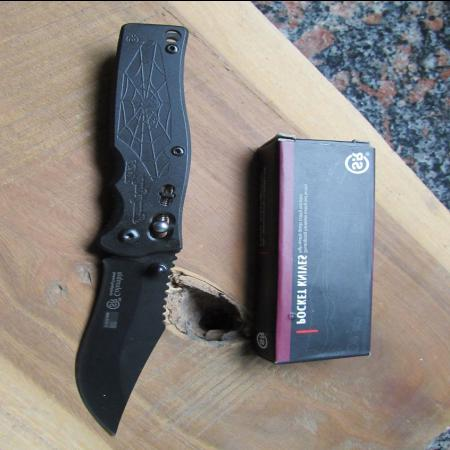long weapon: (64, 14, 201, 440)
